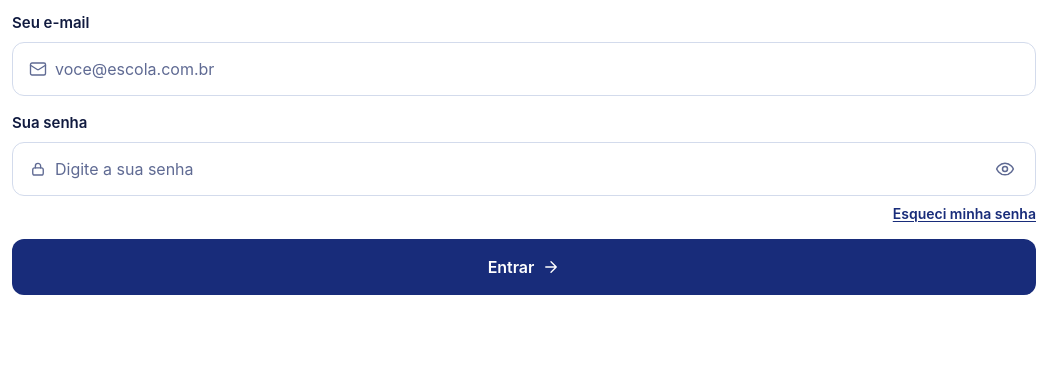
Scenario: LoginForm (login real) › credencial invalida: texto em portugues, senha apagada, nada de redirecionar
The image size is (1048, 374).
Type "ana@example.test" into the field labelled "Seu e-mail" at [537, 69], box [55,45,1019,93]
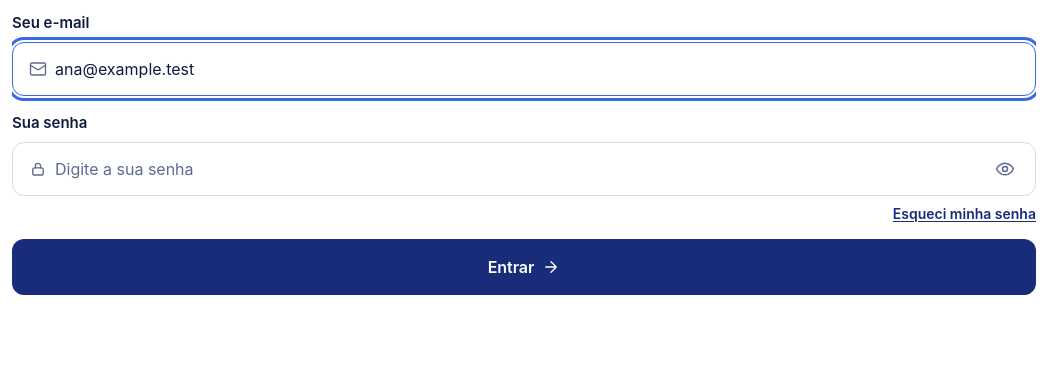
Type "senha-errada-123" into the password field labelled "Sua senha" at [515, 168], box [55,144,975,192]
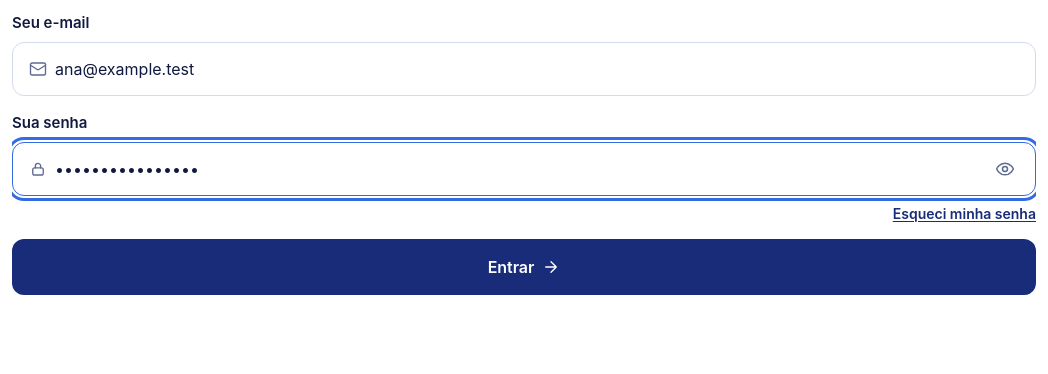
Click the button "Entrar" at [524, 267], box [12,239,1036,295]
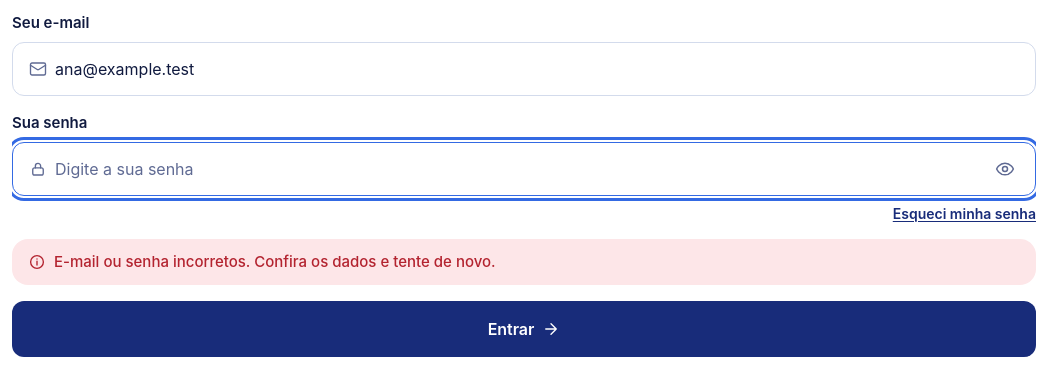
Result: the message shows "E-mail ou senha incorretos" at [54,252,496,271]
Result: the password field labelled "Sua senha" is empty at [55,144,975,192]
